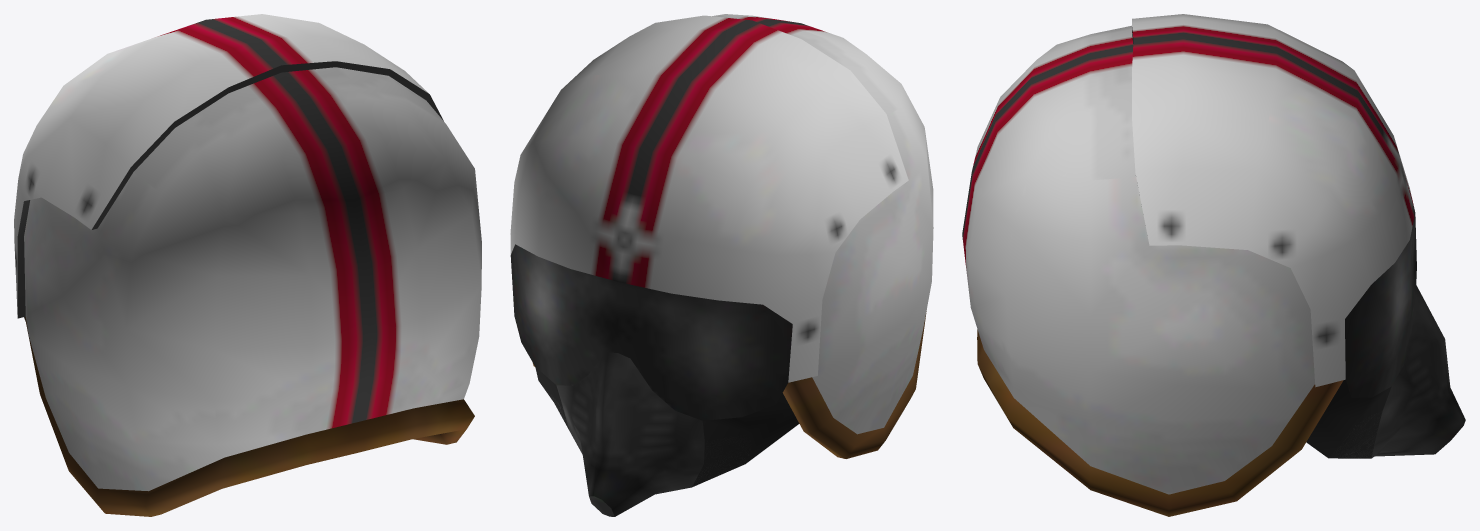
The model's file is helmet.ico.obj.
3 renders of one model, left to right at view 1: azimuth 30°, elevation 25°; view 2: azimuth 150°, elevation 25°; view 3: azimuth 270°, elevation 25°, orthographic. The views are drawn at different scales.
Bounding box in the file's own units: 3.66 × 3.96 × 4.32.
1 material, 1 textured.
